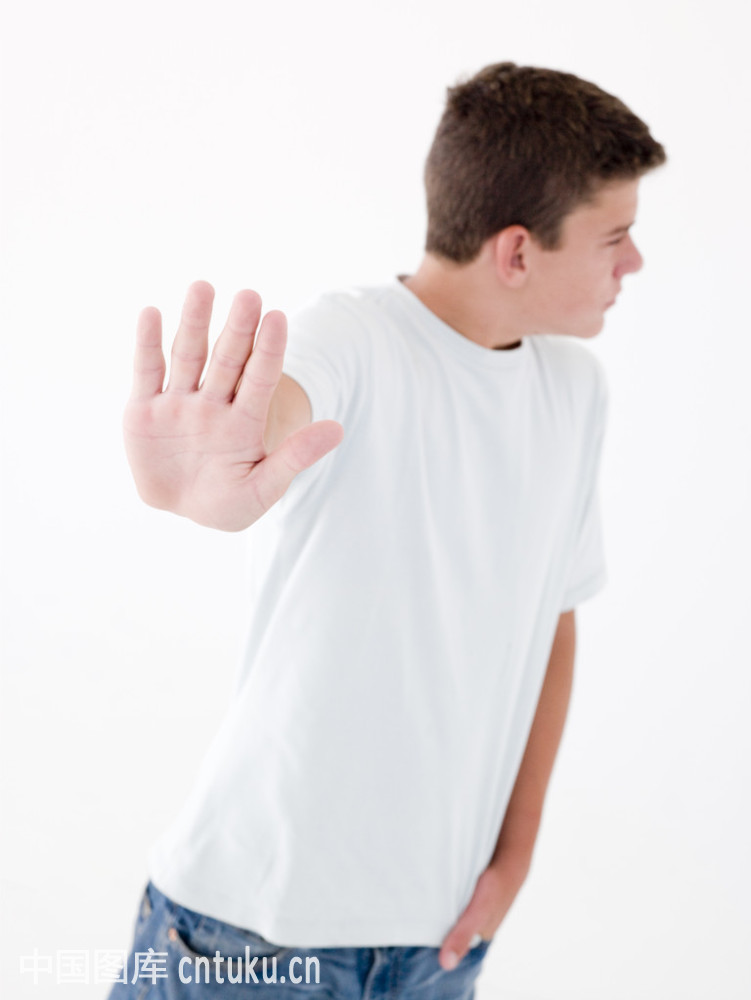handsup: (118, 53, 689, 1000)
